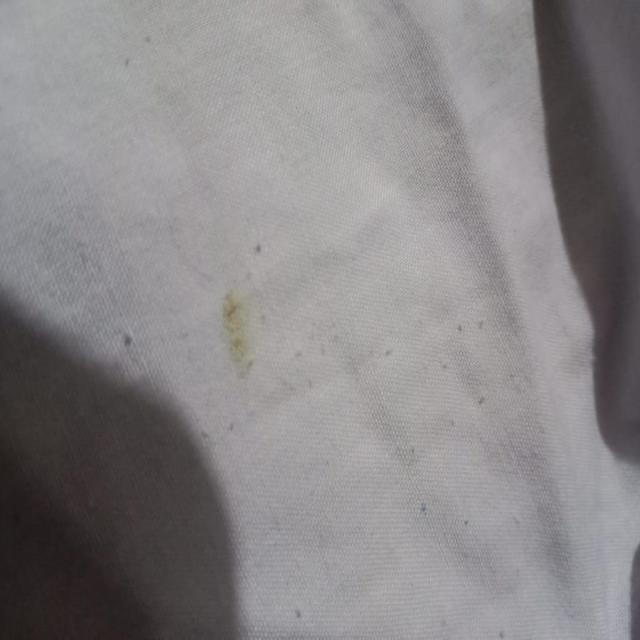stain: (206, 269, 292, 394)
